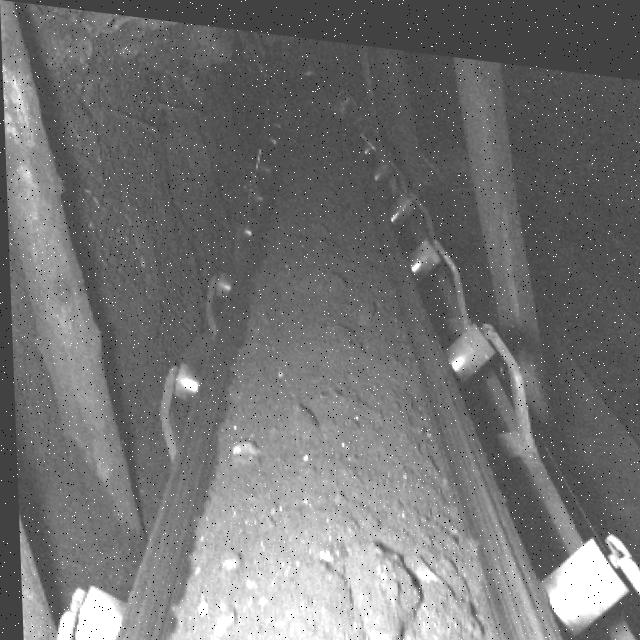large_sized_coal: (336, 530, 414, 640), (214, 539, 241, 569), (227, 431, 258, 454)
